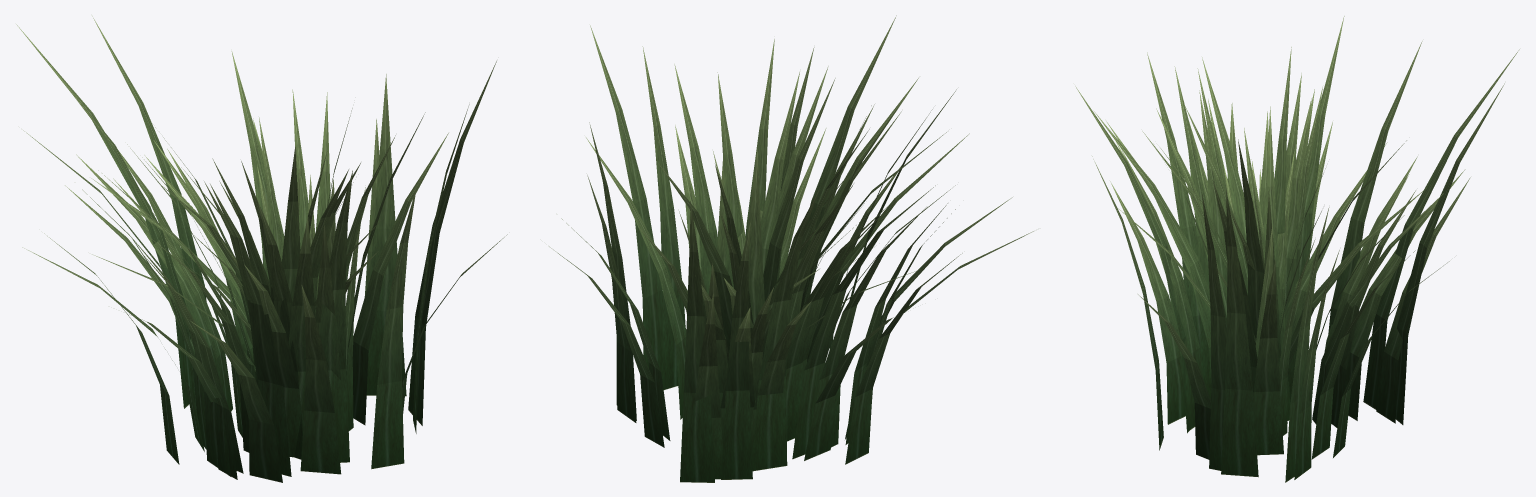
File: Grass_Tall.glb
3 views of the same model, side by side, from view 1: azimuth 30°, elevation 25°; view 2: azimuth 150°, elevation 25°; view 3: azimuth 270°, elevation 25° (orthographic). The views are drawn at different scales.
Parts seen in each view (by area): view 1: Grass_Tall__Blades; view 2: Grass_Tall__Blades; view 3: Grass_Tall__Blades.
Part boxes in pixels (x1=…): Grass_Tall__Blades: x1=16, y1=16, x2=507, y2=482; Grass_Tall__Blades: x1=549, y1=15, x2=1033, y2=482; Grass_Tall__Blades: x1=1075, y1=16, x2=1519, y2=482.
Bounding box in the file's own units: 6.39 × 4.93 × 6.17.
Materials: 1 (1 with a texture image).
